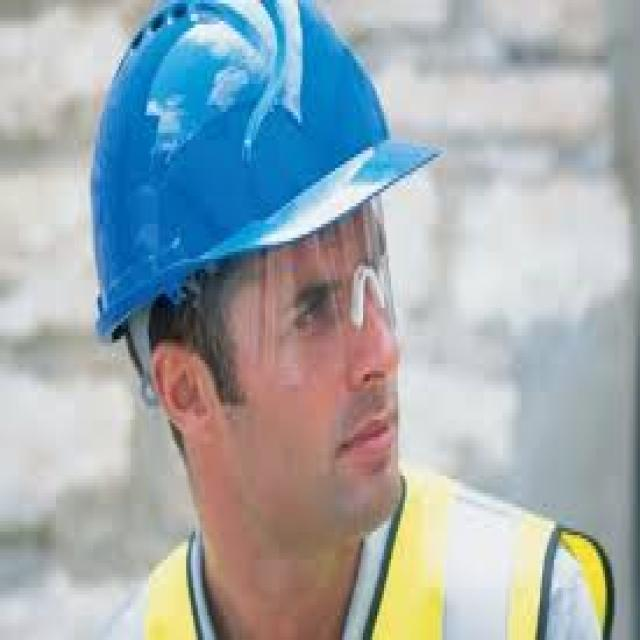helmet: (74, 4, 458, 356)
vest: (121, 447, 630, 640)
